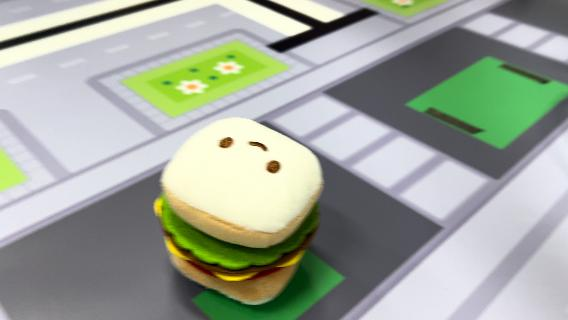sandwich: (152, 114, 326, 306)
